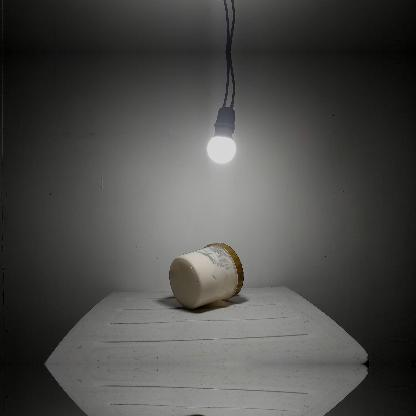Lady-s-Choice: (168, 242, 244, 308)
